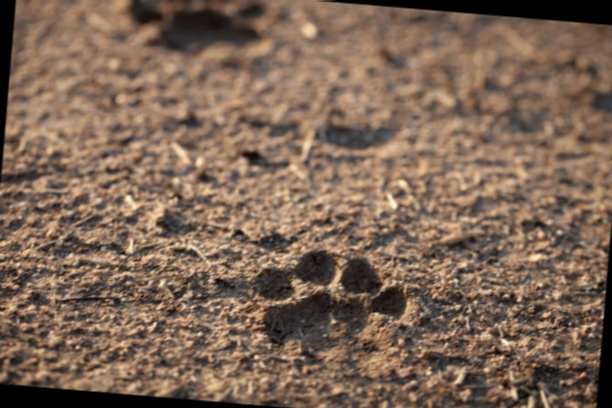coyote: (232, 242, 417, 370)
